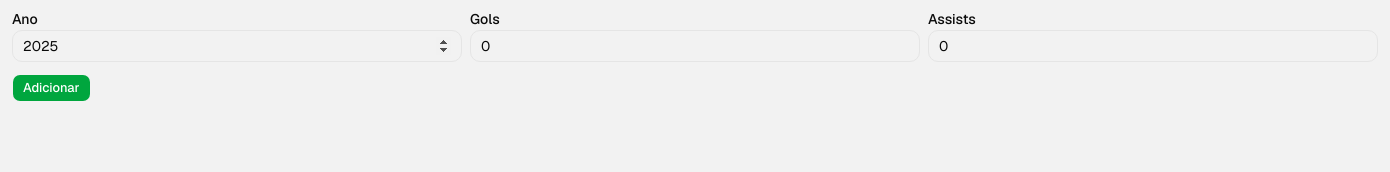
RetroactiveStatForm › submission › shows year validation error when year is below minimum (line 68)
The image size is (1390, 172).
Replace the text in the number field labelled "Ano" with "1999" at (237, 46), box top-left (12, 30), bottom-right (462, 62)
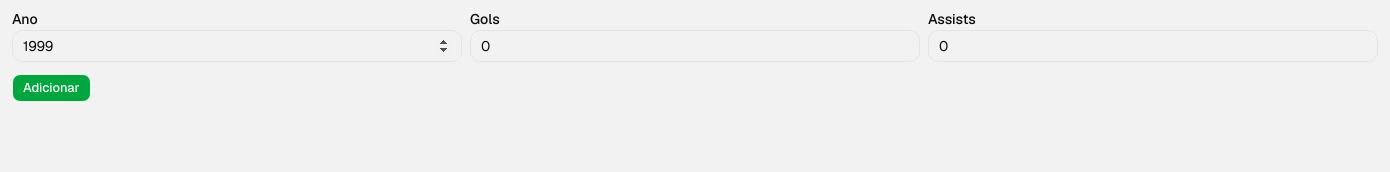
Click the button "Adicionar" at (51, 88), box top-left (12, 74), bottom-right (90, 102)
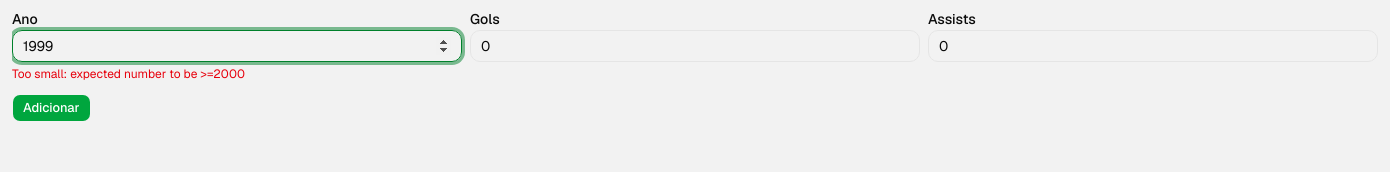
Now the text ">=2000" is shown, box top-left (12, 66), bottom-right (245, 82)
